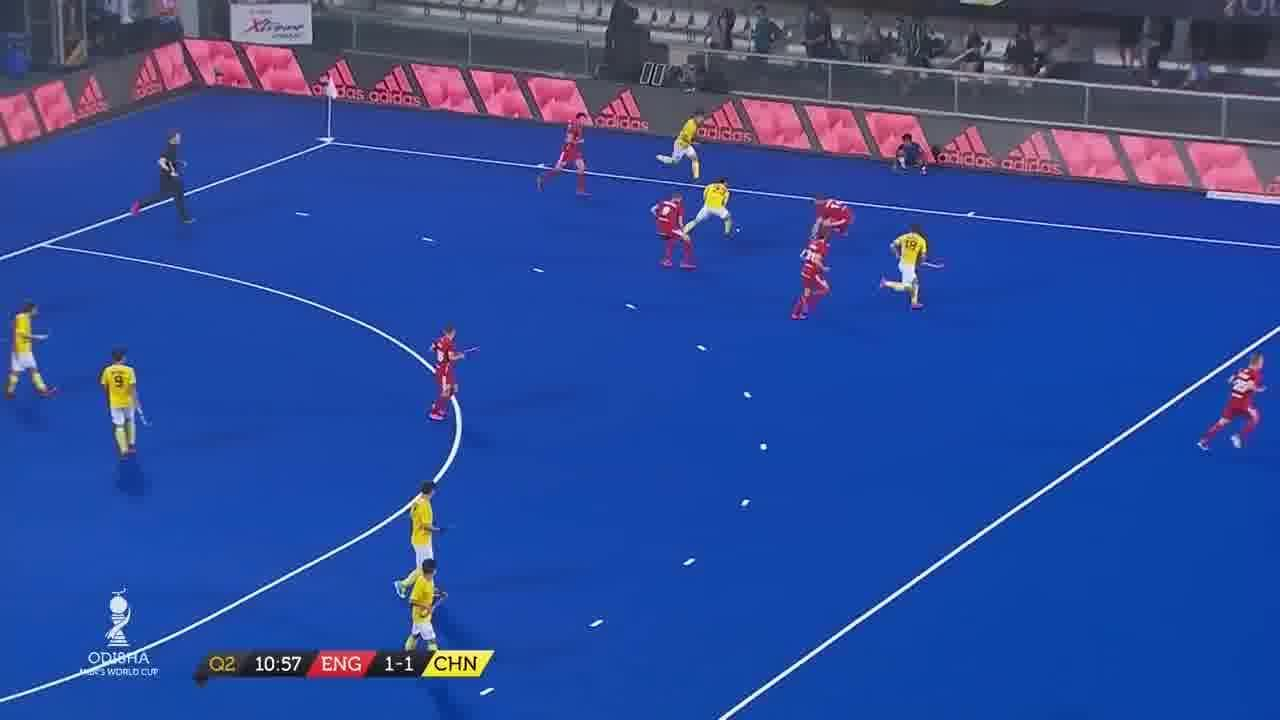ball: (734, 224, 742, 236)
